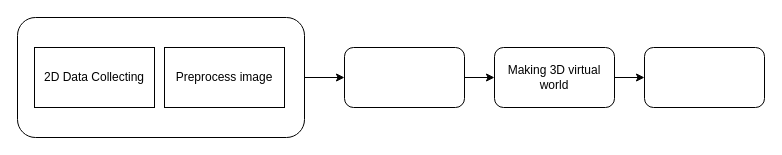
Some shapes in this 782 by 155 pixel diagram are drawn without their labels. Each missing label, with the centre of its shape:
3D Modelling: pixel 404 77
Build / Export Application: pixel 704 77
